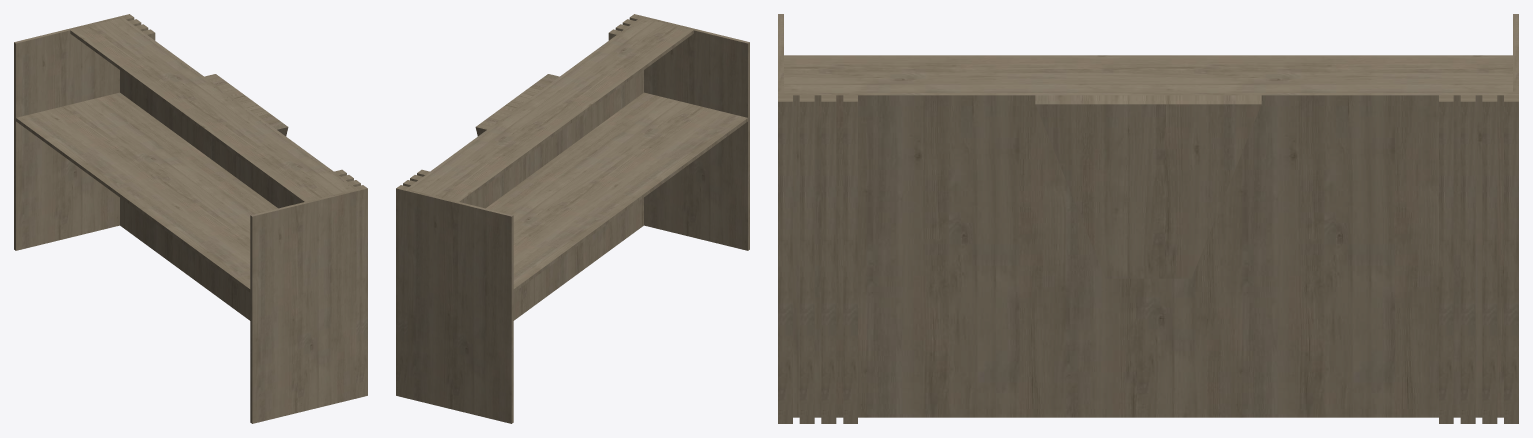
The model's file is res10.glb.
3 renders of one model, left to right at view 1: azimuth 30°, elevation 25°; view 2: azimuth 150°, elevation 25°; view 3: azimuth 270°, elevation 25°, orthographic. The views are drawn at different scales.
Parts seen in each view (by area): view 1: Box042, Box044, Box043, Box045, Box041, Box048, Box047; view 2: Box043, Box044, Box042, Box045, Box041, Box055, Box047; view 3: Box041, Box047, Box045, Box049, Box050, Box053, Box054, Box048, Box051, Box052, Box055.
Part boxes in pixels (x1,y1,x2,y2): Box042: [250, 190, 356, 423]; Box044: [16, 92, 277, 292]; Box043: [14, 17, 119, 250]; Box045: [70, 18, 353, 202]; Box041: [118, 16, 359, 398]; Box048: [355, 185, 367, 397]; Box047: [204, 74, 288, 136]; Box043: [407, 190, 513, 423]; Box044: [486, 92, 747, 292]; Box042: [644, 17, 749, 250]; Box045: [410, 18, 693, 202]; Box041: [404, 16, 645, 398]; Box055: [396, 185, 408, 397]; Box047: [475, 74, 559, 136]; Box041: [778, 93, 1518, 417]; Box047: [1035, 95, 1261, 278]; Box045: [784, 55, 1512, 92]; Box049: [799, 95, 814, 423]; Box050: [821, 95, 836, 423]; Box053: [1460, 95, 1475, 423]; Box054: [1482, 95, 1497, 423]; Box048: [778, 95, 792, 423]; Box051: [843, 95, 857, 423]; Box052: [1439, 95, 1453, 423]; Box055: [1504, 95, 1518, 423].
Bounding box in the file's own units: 0.72 × 1.2 × 2.5.
1 material, 1 textured.
